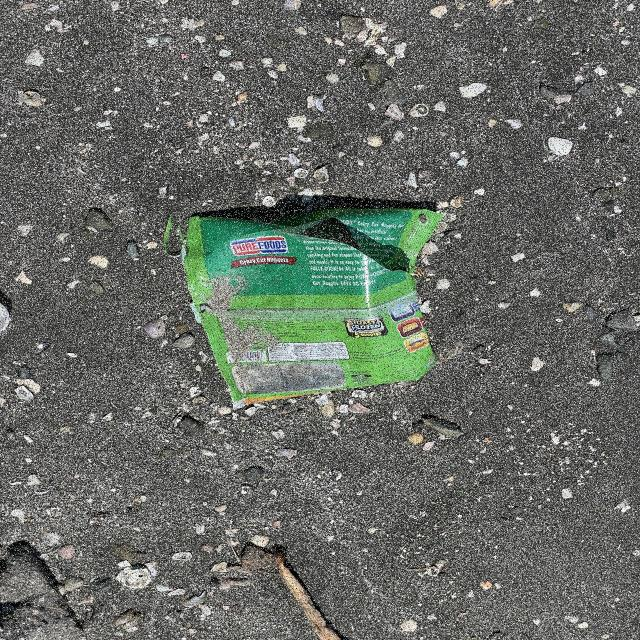plastic_waste: (182, 208, 447, 404)
